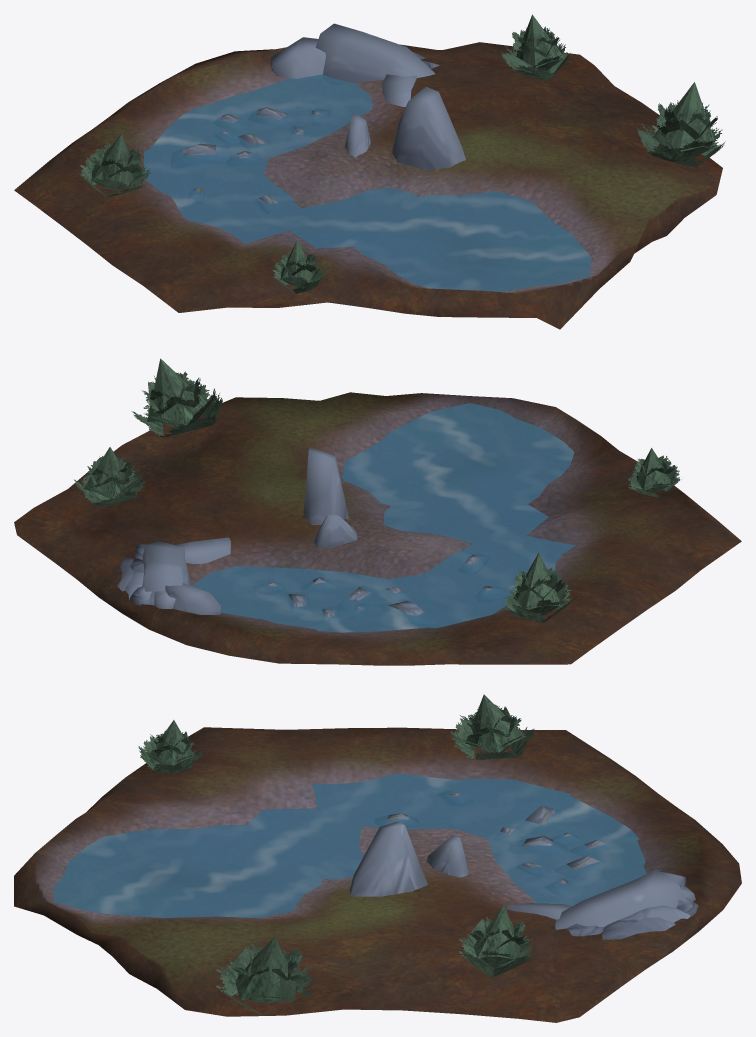
File: RioAraucaria.fbx
The picture shows the model from 3 angles, top to bottom: view 1: azimuth 30°, elevation 25°; view 2: azimuth 150°, elevation 25°; view 3: azimuth 270°, elevation 25°; orthographic projection. The views are drawn at different scales.
Visible parts, largest first — view 1: RioAraucariaTile; view 2: RioAraucariaTile; view 3: RioAraucariaTile.
Part boxes in pixels (x1=…): RioAraucariaTile: x1=14, y1=14, x2=725, y2=329; RioAraucariaTile: x1=14, y1=358, x2=741, y2=665; RioAraucariaTile: x1=14, y1=694, x2=741, y2=1022.
Bounding box in the file's own units: 518 × 89.7 × 524.
